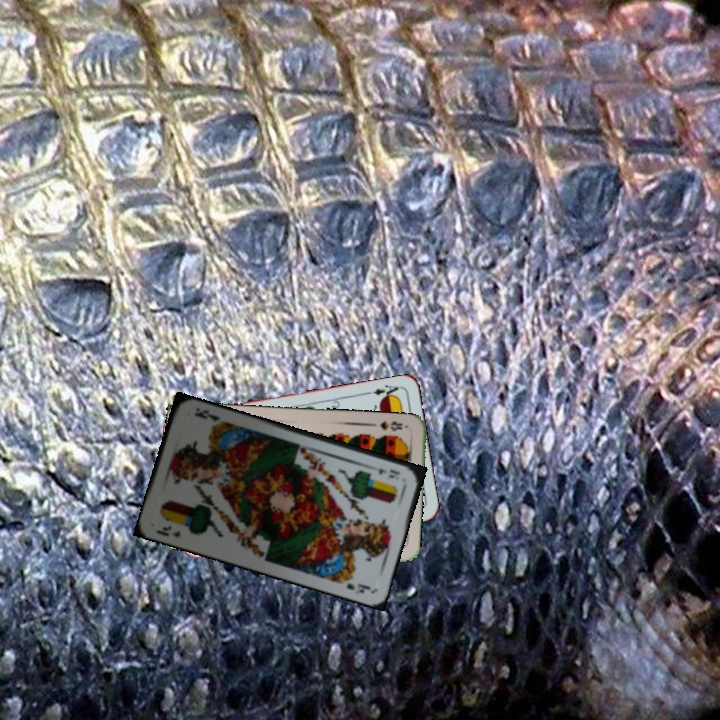EA: (363, 381, 403, 401)
EK: (367, 462, 403, 481), (152, 522, 183, 540)
S8: (376, 417, 405, 433)
